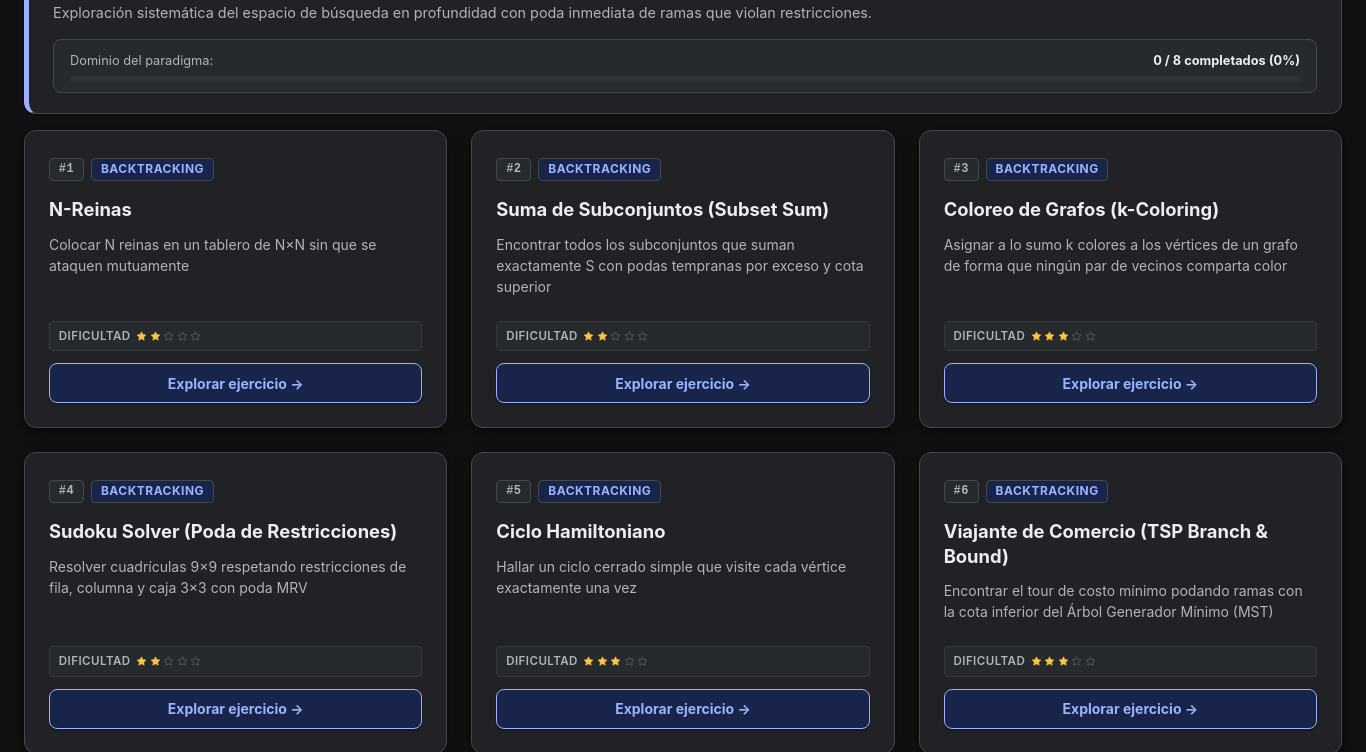
Scenario: Phase D: Browser / User Journey Integration Verification (15 Core Flows) › Flow 5: Solve phase renders problem statement, hints, code editor, and run button
(page scrolled)
Click the button with class "btn-open-exercise" below "N-Reinas": [236, 383] box [49,363,422,403]
(page scrolled)
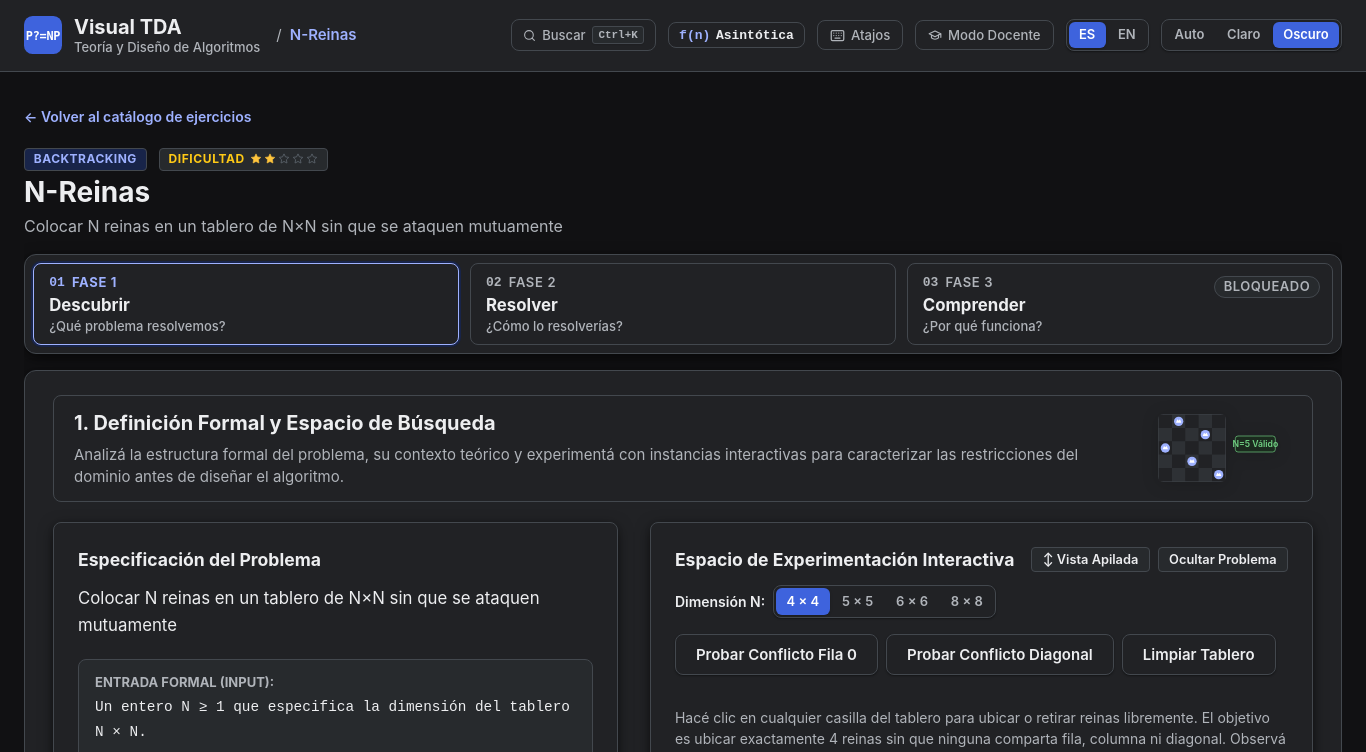
Click the tab "02 Fase 2 Resolver ¿Cómo lo resolverías?": [532, 282] box [470,263,896,345]
(page scrolled)
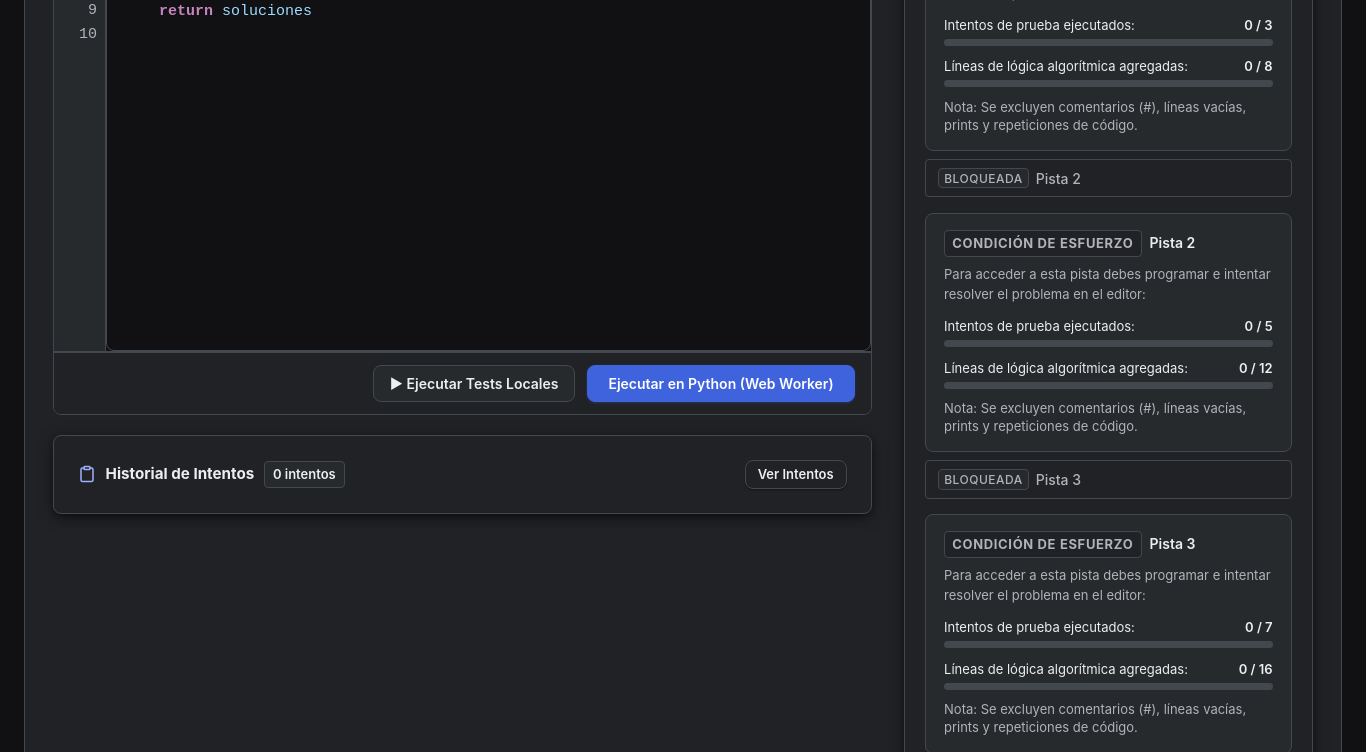
Result: the button with class "btn-fast-tests" is shown at [373,365,575,402]
